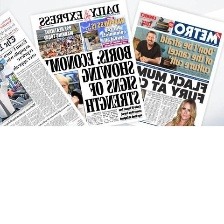news_paper: (28, 1, 149, 126), (130, 0, 224, 126), (0, 9, 95, 127)
